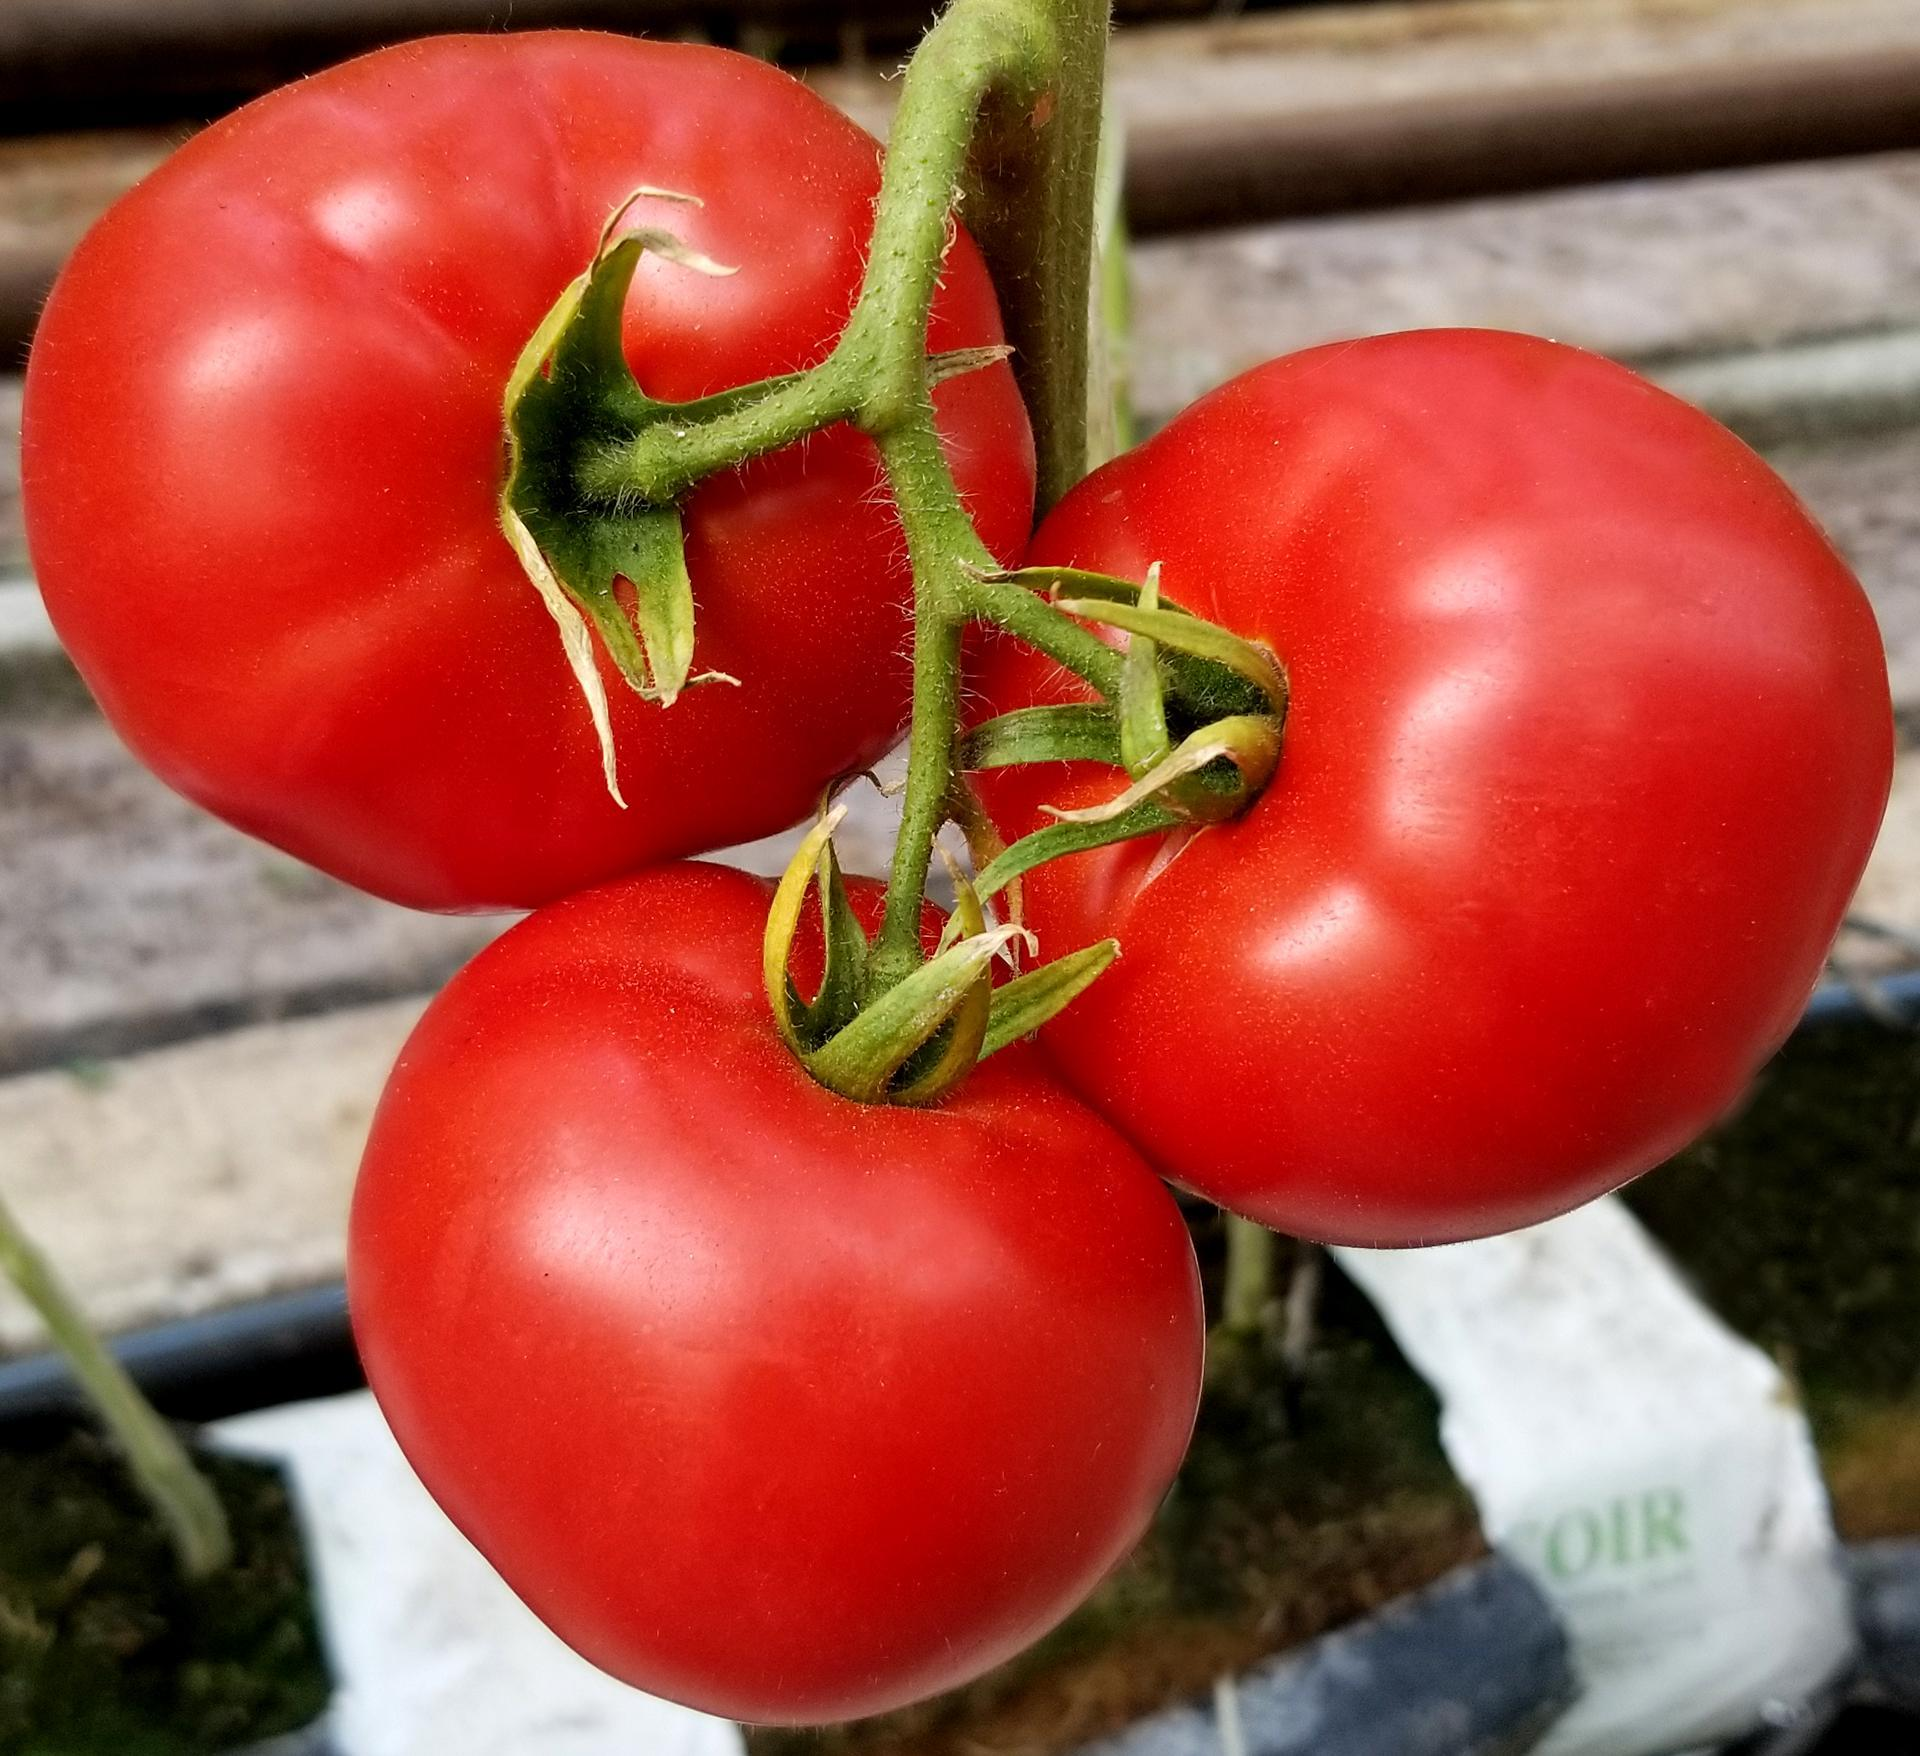healthy-tomato: (22, 2, 1139, 920), (1022, 331, 1890, 1258), (343, 865, 1208, 1714)
